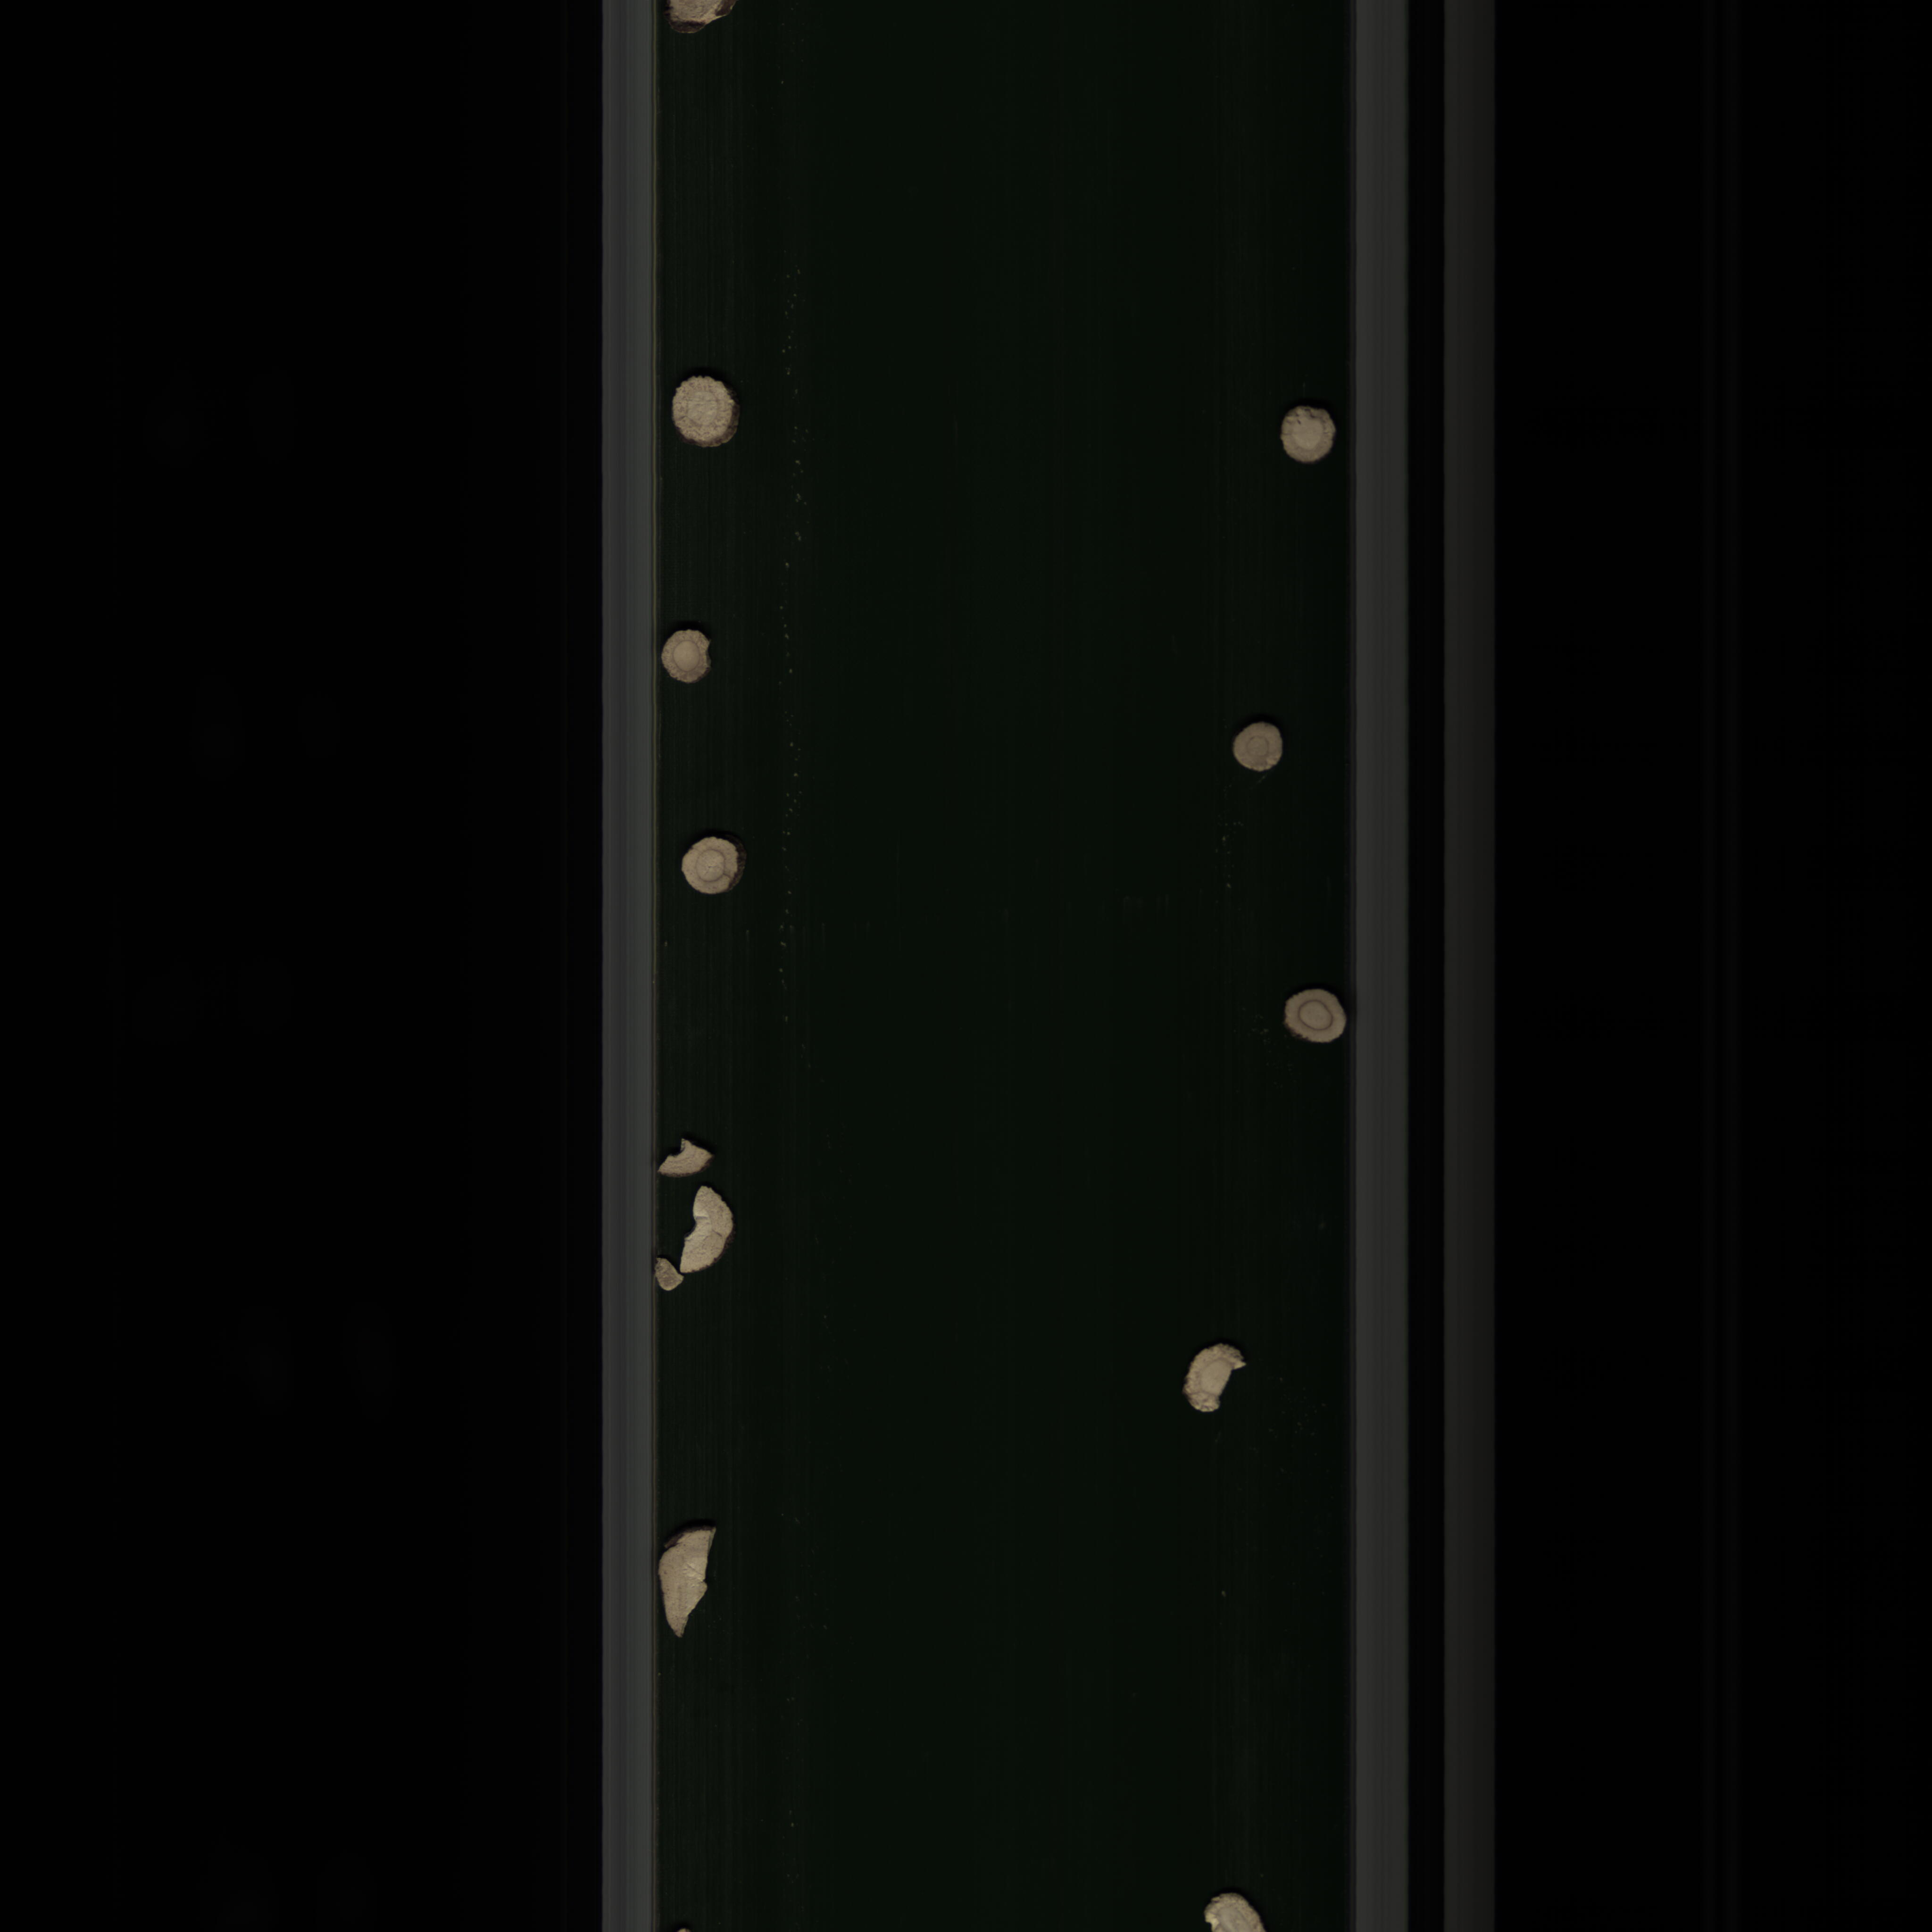debris: (656, 1509, 727, 1647), (1177, 1332, 1249, 1433), (679, 1182, 745, 1283), (651, 1136, 720, 1184)
